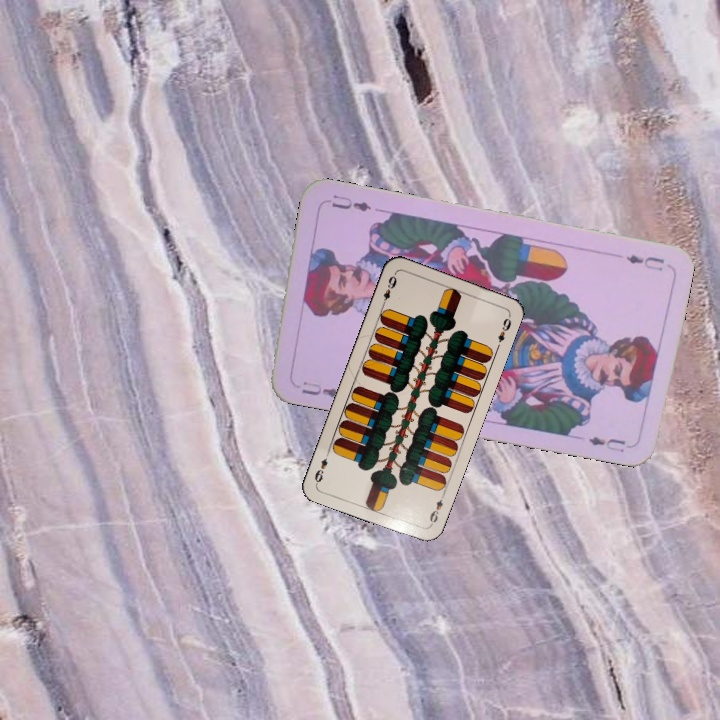E9: (425, 489, 447, 528), (378, 270, 399, 309)
EU: (621, 251, 667, 274), (298, 377, 343, 400)
